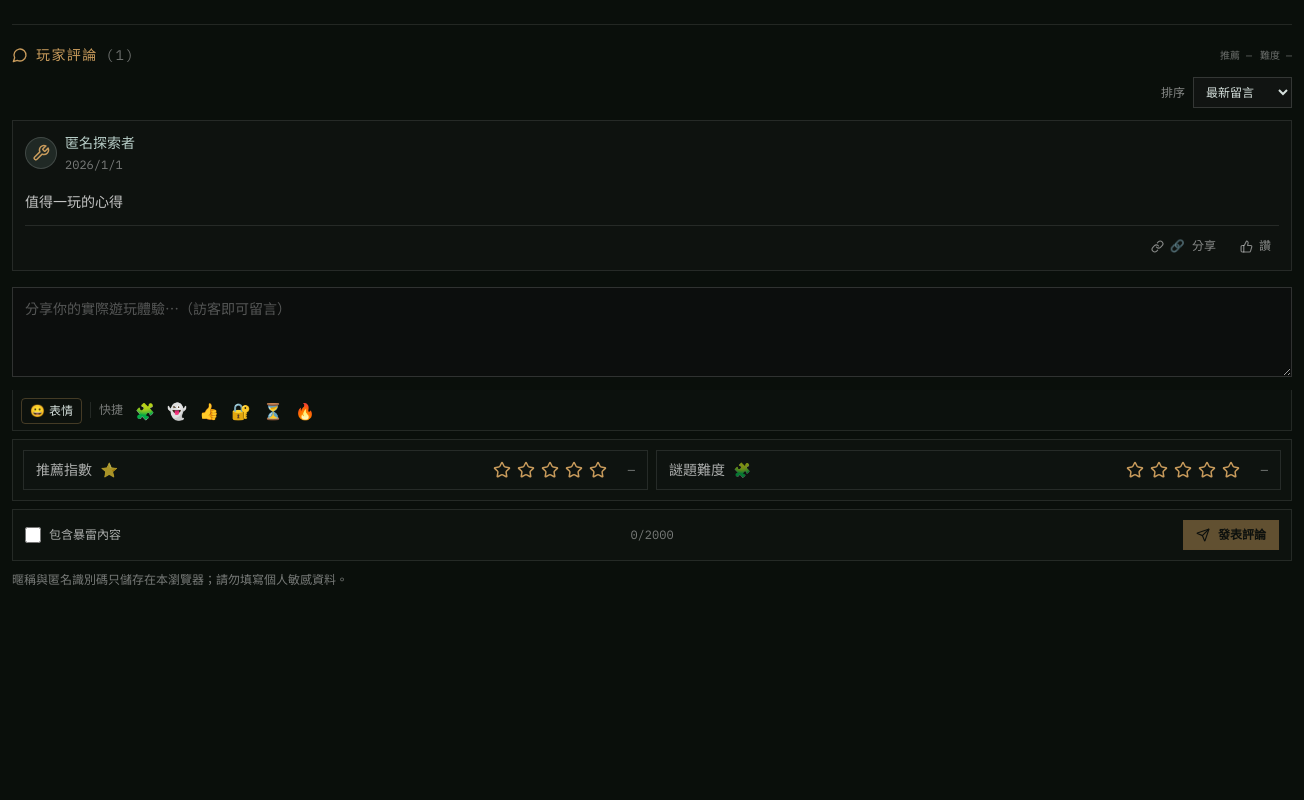
Test case: TopicComments › copies a comment anchor link and shows the copied confirmation
This screenshot has width=1304, height=800.
Click the button with aria-label "分享這則評論": (1183, 246) left=1143, top=234, right=1224, bottom=258
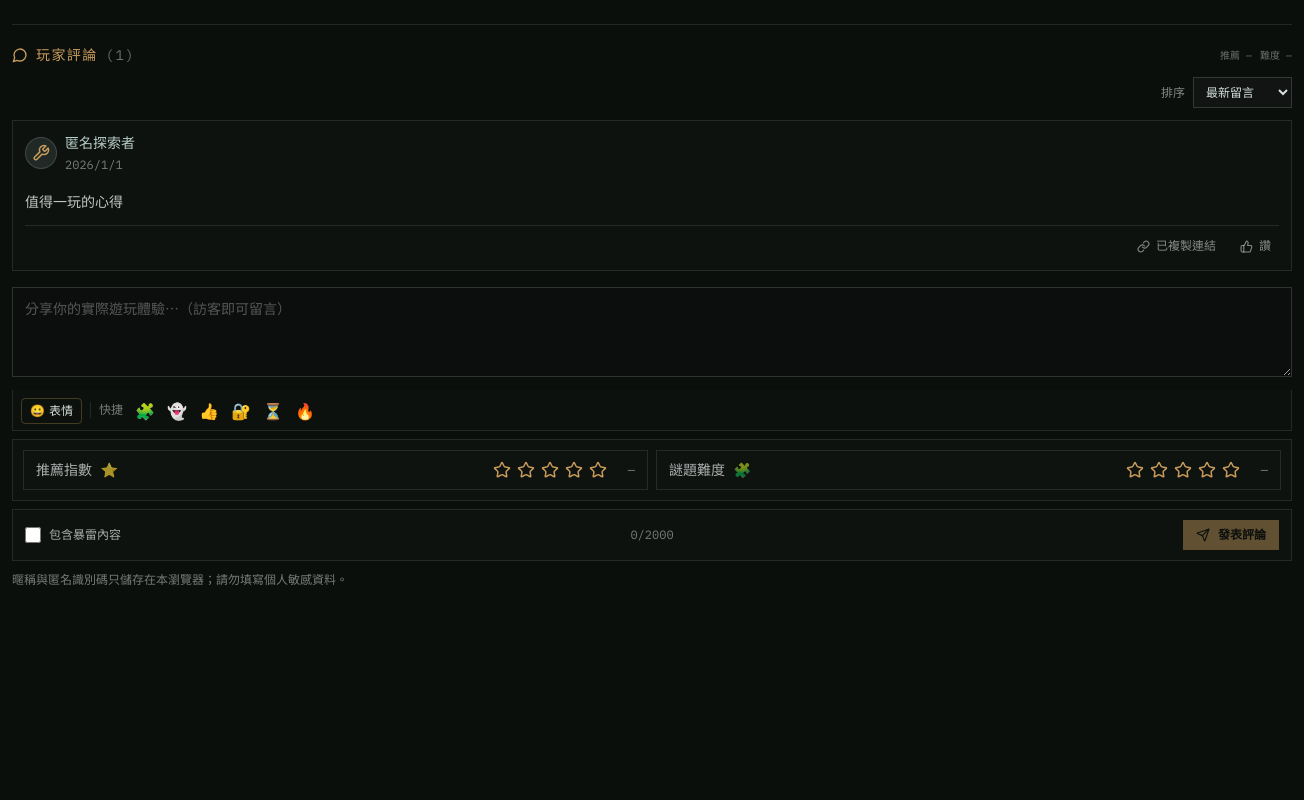
Expected: the element with id "comment-popular-101-31" is shown, left=12, top=120, right=1292, bottom=271
Now the button with aria-label "分享這則評論" reads "已複製連結", box left=1129, top=234, right=1224, bottom=258
